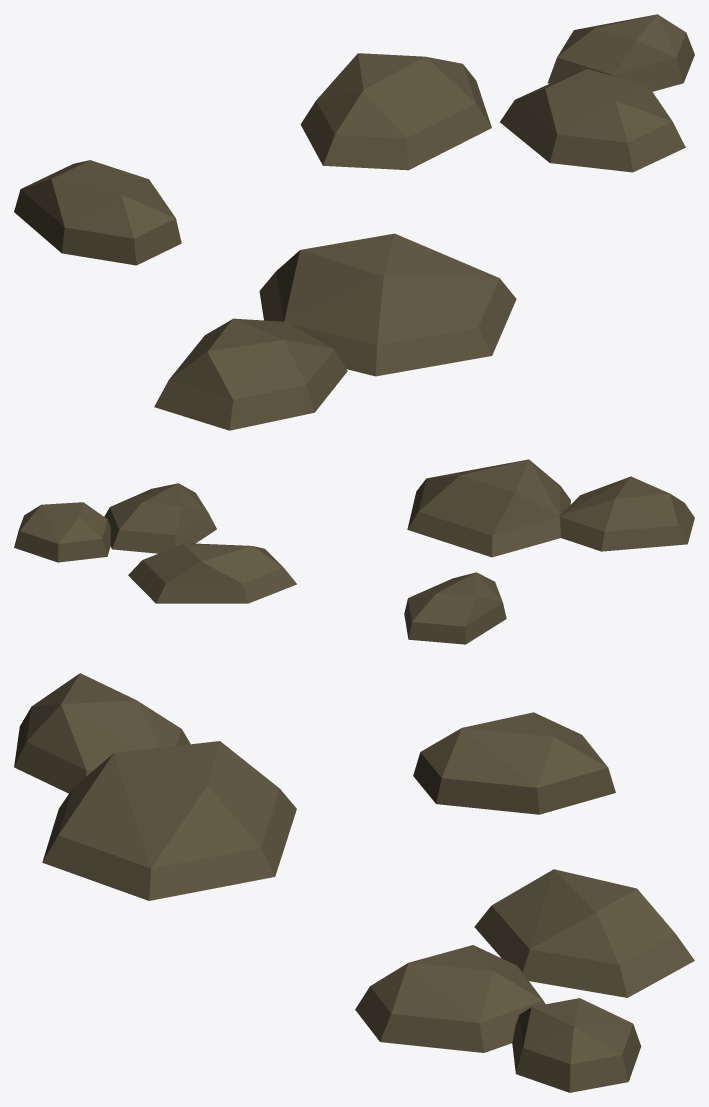
The model's file is pebbles0.glb.
3 views of the same model, one above another, from view 1: azimuth 30°, elevation 25°; view 2: azimuth 150°, elevation 25°; view 3: azimuth 270°, elevation 25° (orthographic). The views are drawn at different scales.
Parts seen in each view (by area): view 1: pebbles4.caves.medium; view 2: pebbles4.caves.medium; view 3: pebbles4.caves.medium.
Boxes of the visible parts, x1=… form: pebbles4.caves.medium: x1=14, y1=14, x2=694, y2=430; pebbles4.caves.medium: x1=14, y1=459, x2=694, y2=644; pebbles4.caves.medium: x1=14, y1=673, x2=694, y2=1092.
Bounding box in the file's own units: 2.21 × 0.1985 × 1.67.
Materials: 1 (1 with a texture image).
